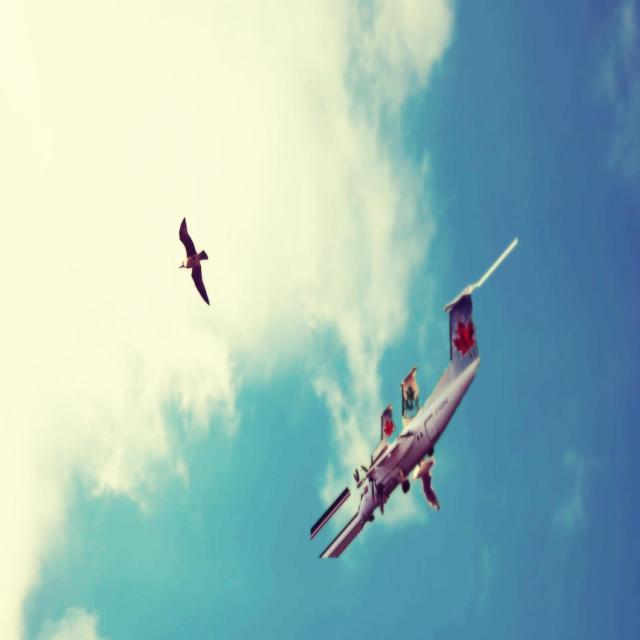airplane: (309, 294, 481, 560)
